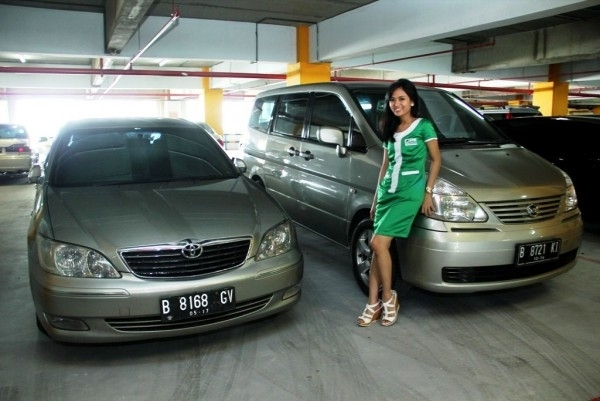plate: (162, 287, 237, 318), (520, 241, 560, 263)
